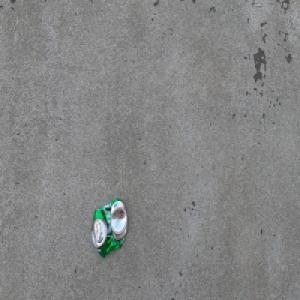SodaCan: (90, 197, 127, 258)
